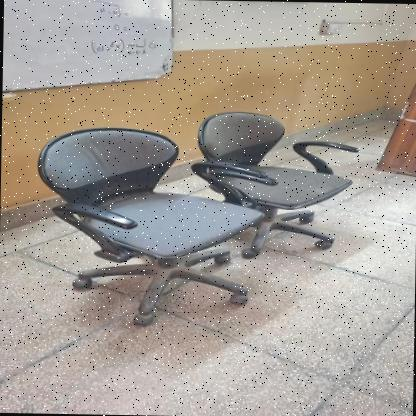chair: (29, 122, 260, 331), (186, 101, 362, 254)
